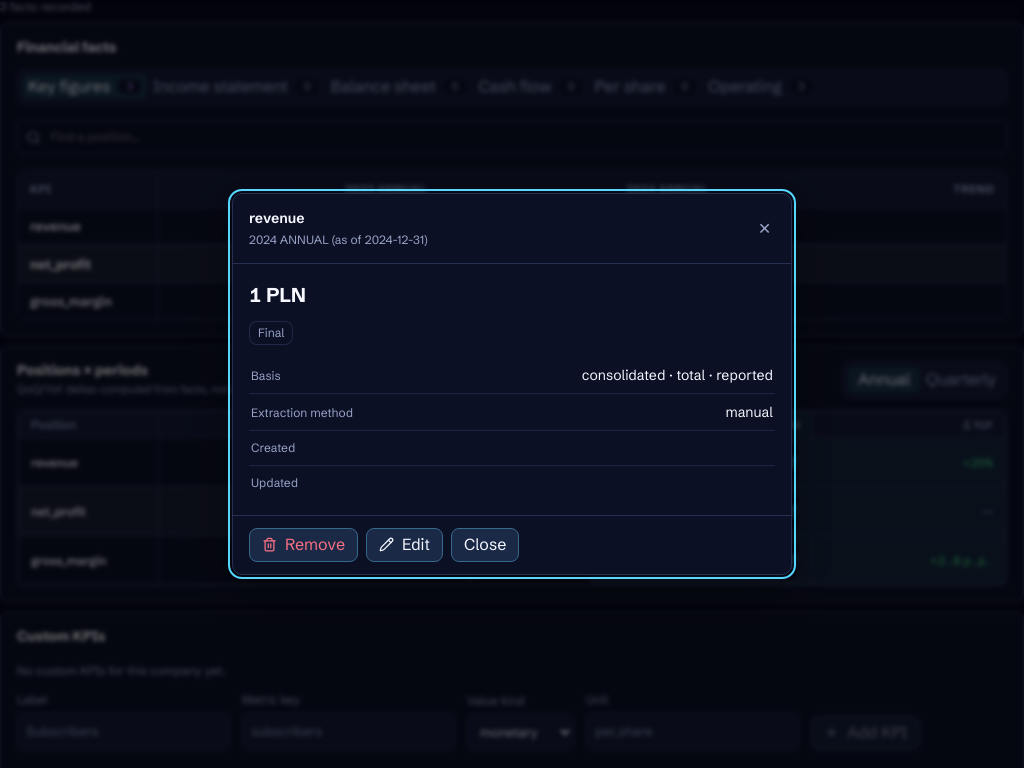
Test: FundamentalsPanel fact detail modal (card #307) › closes the modal on the Zamknij/Close action, deselecting the fact
Click the button "Close" at [485, 545], box [451,528,519,562]
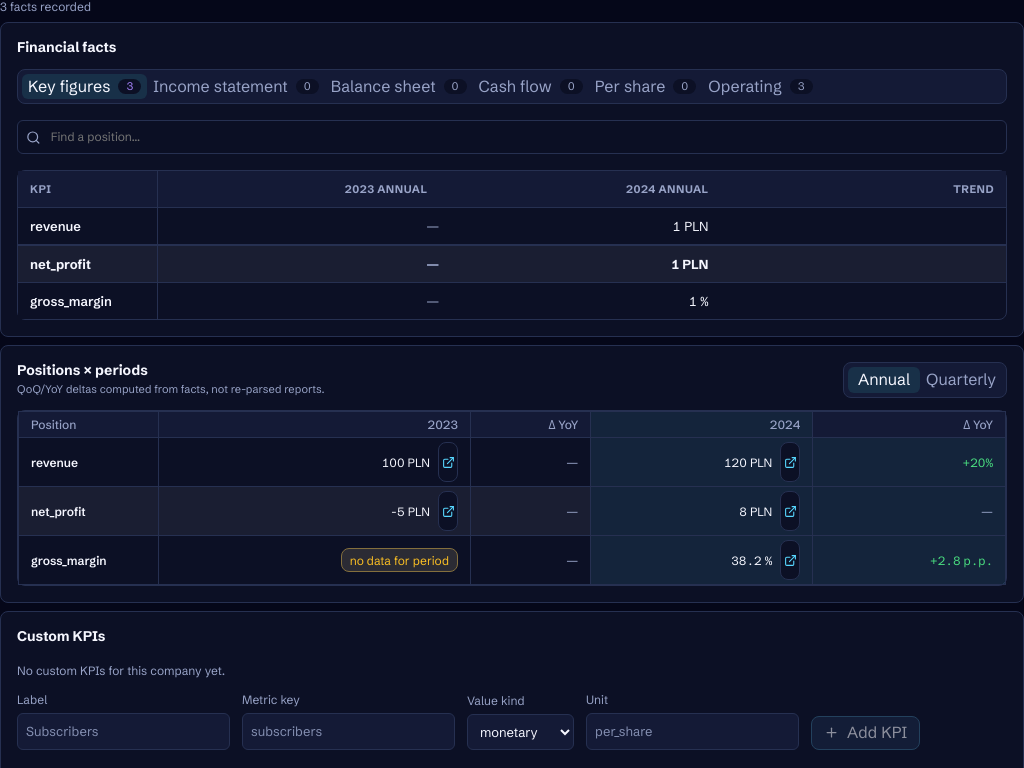
Now the dialog is gone
